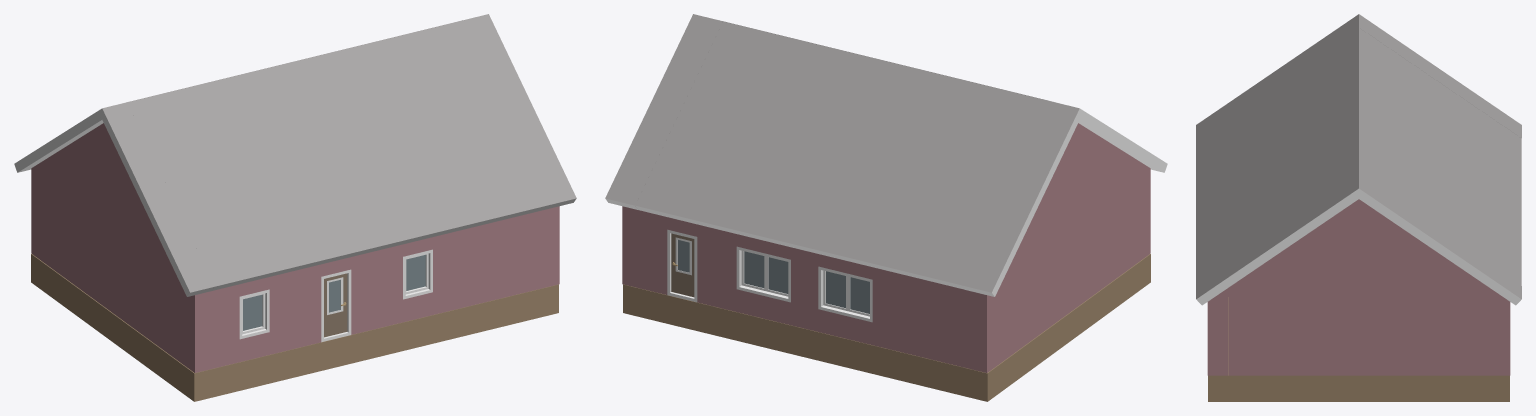
Rendered from House5.fbx.
3 views of the same model, side by side, from view 1: azimuth 30°, elevation 25°; view 2: azimuth 150°, elevation 25°; view 3: azimuth 270°, elevation 25° (orthographic). The views are drawn at different scales.
Visible parts, largest first — view 1: Cube__11_.003; view 2: Cube__11_.003; view 3: Cube__11_.003.
Part boxes in pixels (x1,y1,x2,y2): Cube__11_.003: [14, 14, 576, 401]; Cube__11_.003: [605, 14, 1167, 401]; Cube__11_.003: [1196, 14, 1521, 401].
Size of the model in its own units: 1427 by 834 by 1126.
